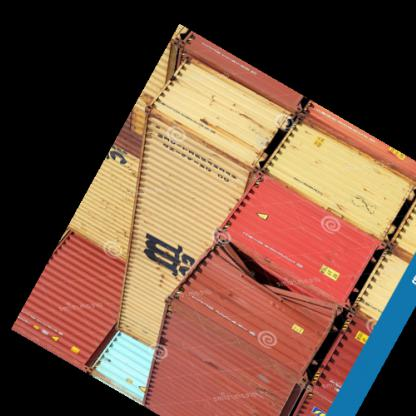Damage: (225, 233, 287, 299)
